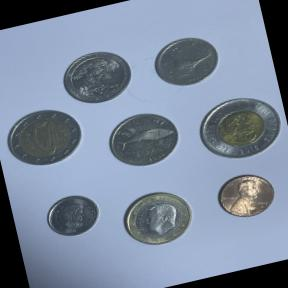coin: (186, 83, 288, 173), (112, 182, 204, 258), (98, 101, 187, 178), (0, 98, 89, 174), (56, 40, 142, 112), (208, 164, 283, 228), (39, 186, 107, 246)
